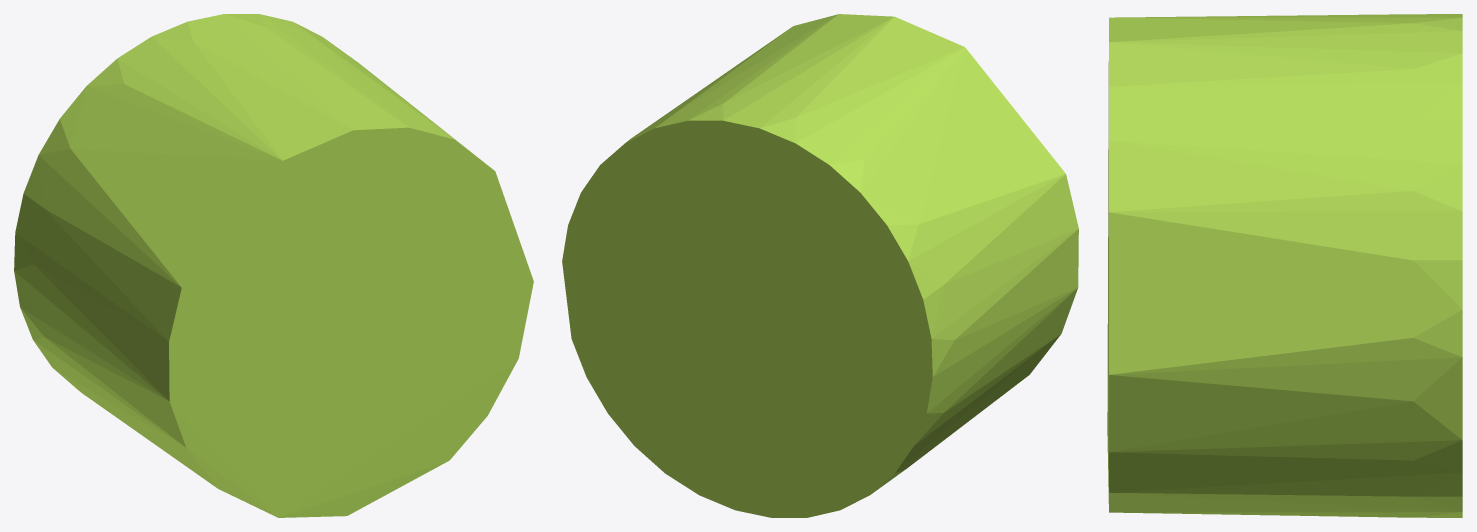
The model's file is ur10_e_link_3_coll_8.dae.
3 renders of one model, left to right at view 1: azimuth 30°, elevation 25°; view 2: azimuth 150°, elevation 25°; view 3: azimuth 270°, elevation 25°, orthographic. The views are drawn at different scales.
Parts seen in each view (by area): view 1: node; view 2: node; view 3: node.
Part boxes in pixels (x1=…): node: x1=14, y1=14, x2=533, y2=517; node: x1=562, y1=14, x2=1078, y2=517; node: x1=1107, y1=14, x2=1462, y2=517.
Size of the model in its own units: 0.0899 by 0.0896 by 0.0633.
